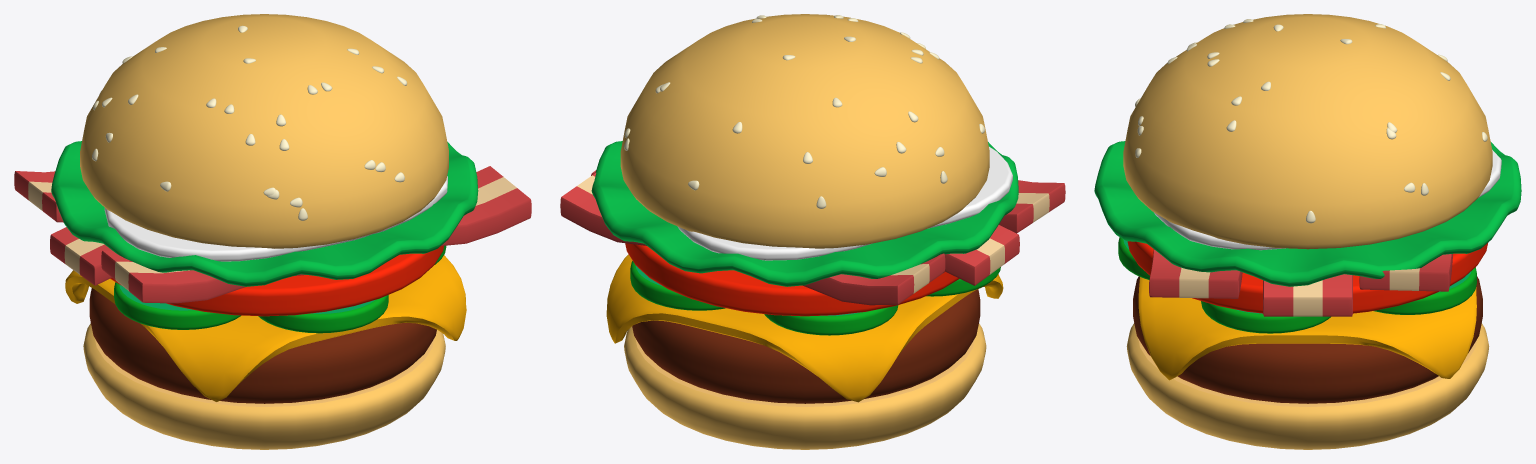
3 views of the same model, side by side, from view 1: azimuth 30°, elevation 25°; view 2: azimuth 150°, elevation 25°; view 3: azimuth 270°, elevation 25° (orthographic).
Parts seen in each view (by area): view 1: top_bun_1, Bottom_bun, beef, Lettuce, Cheese, tomato, Bacon_2, Egg, cucumber_2, cucumber_3, Bacon, Bacon_1; view 2: top_bun_1, Bottom_bun, beef, Lettuce, Cheese, tomato, Bacon_1, Egg, Bacon, cucumber_1, Bacon_2, cucumber (+1 smaller); view 3: top_bun_1, Lettuce, Bottom_bun, Cheese, beef, tomato, Bacon, Bacon_2, Bacon_1, cucumber_4, cucumber, Egg (+1 smaller).
Part boxes in pixels (x1=…): top_bun_1: x1=80, y1=14, x2=448, y2=248; Bottom_bun: x1=83, y1=323, x2=445, y2=449; beef: x1=89, y1=288, x2=436, y2=403; Lettuce: x1=51, y1=141, x2=478, y2=286; Cheese: x1=65, y1=255, x2=466, y2=401; tomato: x1=110, y1=246, x2=443, y2=316; Bacon_2: x1=101, y1=166, x2=531, y2=303; Egg: x1=104, y1=176, x2=447, y2=261; cucumber_2: x1=114, y1=282, x2=241, y2=329; cucumber_3: x1=258, y1=295, x2=388, y2=333; Bacon: x1=50, y1=227, x2=111, y2=285; Bacon_1: x1=14, y1=171, x2=63, y2=222; top_bun_1: x1=620, y1=14, x2=989, y2=248; Bottom_bun: x1=624, y1=323, x2=986, y2=449; beef: x1=632, y1=289, x2=980, y2=403; Lettuce: x1=591, y1=141, x2=1018, y2=286; Cheese: x1=606, y1=254, x2=1003, y2=402; tomato: x1=625, y1=243, x2=959, y2=316; Bacon_1: x1=560, y1=173, x2=945, y2=305; Egg: x1=677, y1=146, x2=1012, y2=260; Bacon: x1=591, y1=170, x2=1019, y2=285; cucumber_1: x1=764, y1=305, x2=898, y2=335; Bacon_2: x1=999, y1=180, x2=1065, y2=233; cucumber: x1=630, y1=261, x2=725, y2=310; top_bun_1: x1=1123, y1=14, x2=1492, y2=249; Lettuce: x1=1094, y1=141, x2=1521, y2=286; Bottom_bun: x1=1126, y1=323, x2=1489, y2=449; Cheese: x1=1138, y1=267, x2=1476, y2=380; beef: x1=1133, y1=276, x2=1482, y2=403; tomato: x1=1127, y1=241, x2=1487, y2=313; Bacon: x1=1263, y1=274, x2=1352, y2=316; Bacon_2: x1=1149, y1=249, x2=1242, y2=298; Bacon_1: x1=1359, y1=254, x2=1452, y2=291; cucumber_4: x1=1201, y1=301, x2=1330, y2=333; cucumber: x1=1374, y1=267, x2=1476, y2=314; Egg: x1=1154, y1=149, x2=1501, y2=250.
Bounding box in the file's own units: 0.1799 × 0.1543 × 0.1728.
